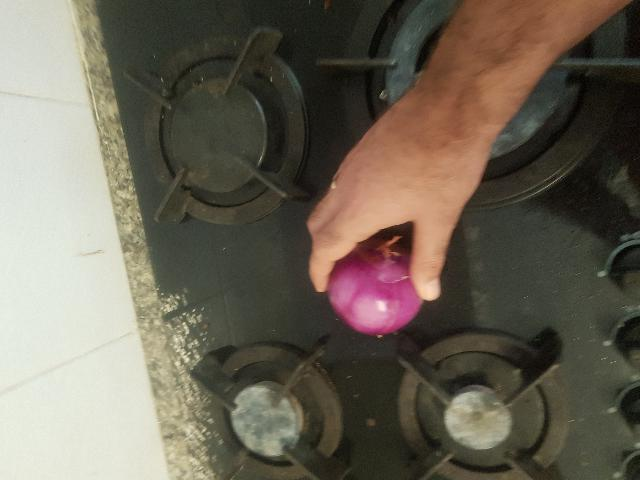onion: (147, 333, 236, 422)
